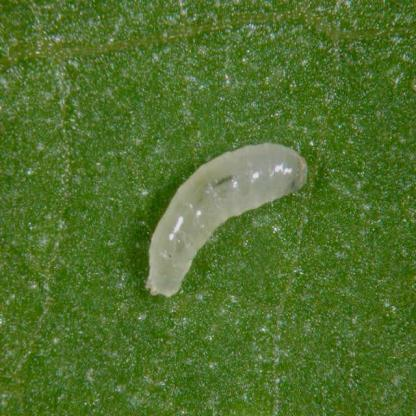whorl-maggot: (136, 128, 312, 308)
